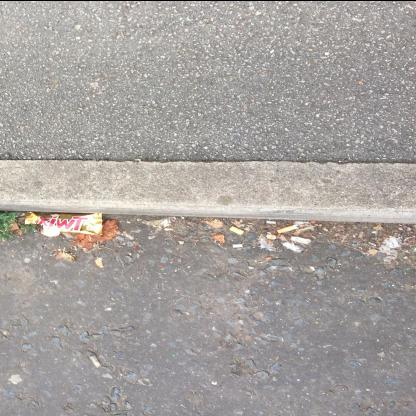plastik: (23, 210, 102, 236)
